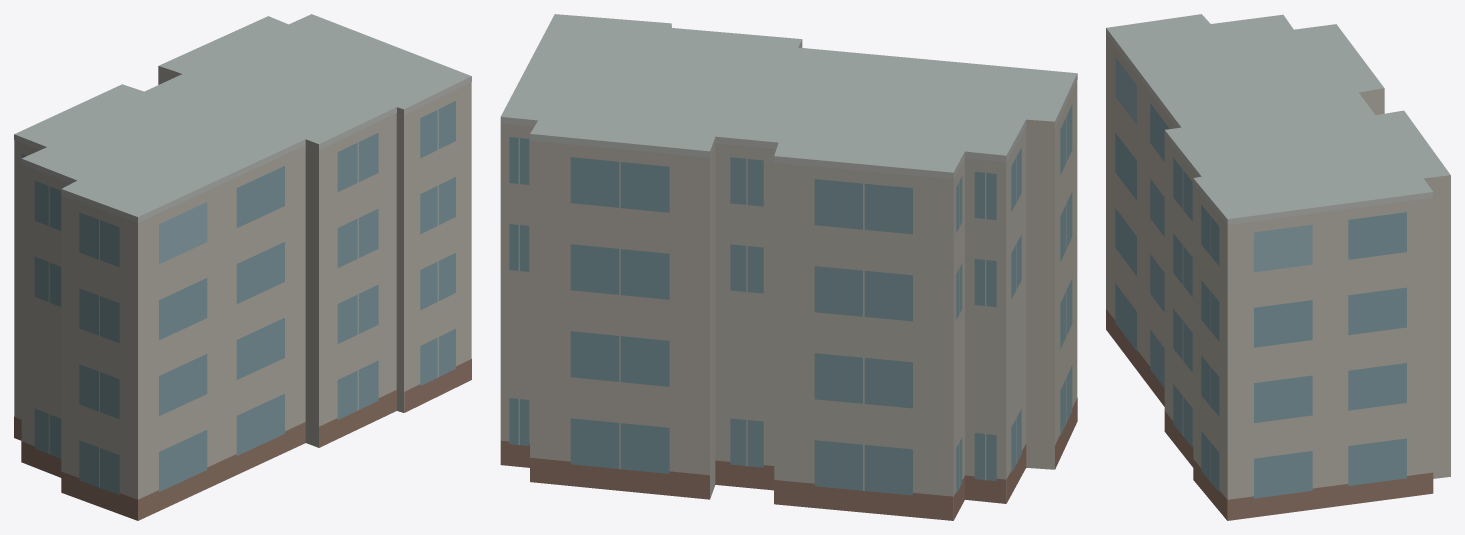
File: survey-upis-32616310.glb
3 renders of one model, left to right at view 1: azimuth 30°, elevation 25°; view 2: azimuth 150°, elevation 25°; view 3: azimuth 270°, elevation 25°, orthographic. The views are drawn at different scales.
Parts seen in each view (by area): view 1: survey-upis-32616310.tmp; view 2: survey-upis-32616310.tmp; view 3: survey-upis-32616310.tmp.
Boxes of the visible parts, left/top/right/bottom form: survey-upis-32616310.tmp: left=14, top=14, right=471, bottom=520; survey-upis-32616310.tmp: left=500, top=14, right=1077, bottom=520; survey-upis-32616310.tmp: left=1106, top=14, right=1450, bottom=520.
Bounding box in the file's own units: 18.83 × 12.9 × 13.37.
